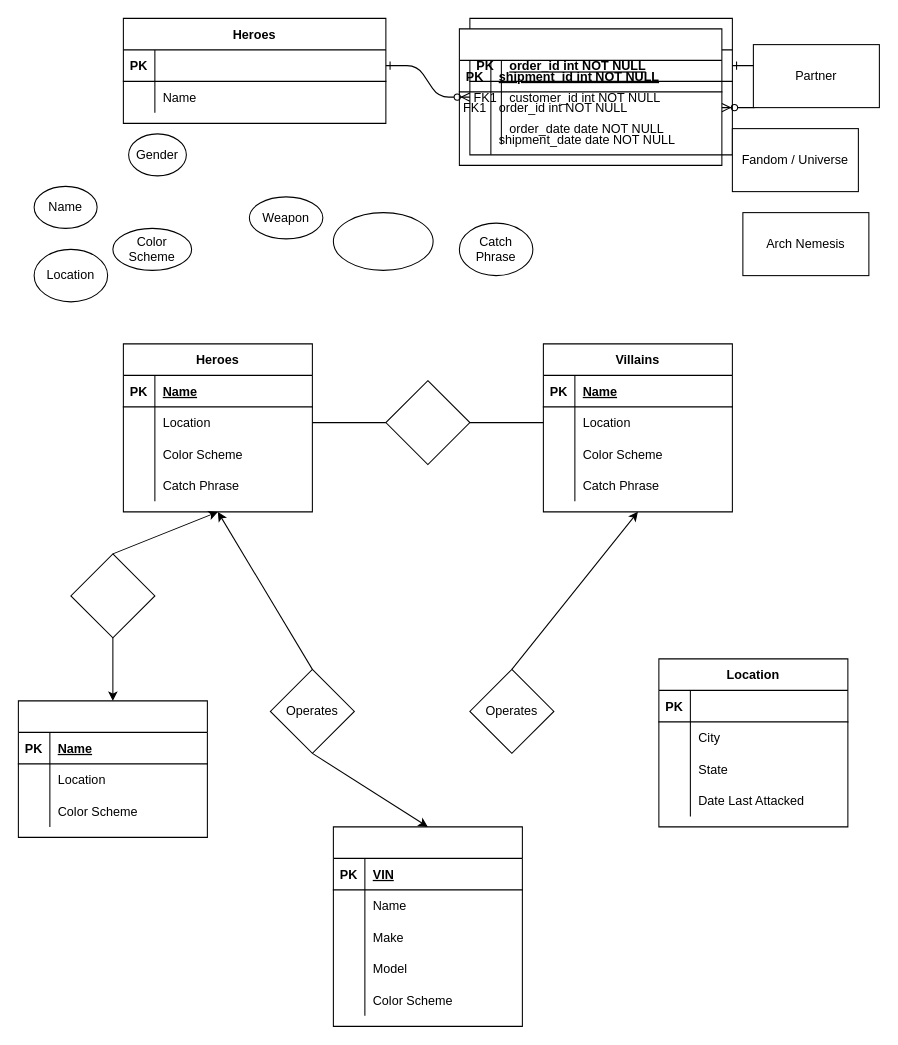
Image size: 898x1045. Some labels were removed from this diagram. The box of each missing label's shape, as (x1, y1, x2, y2) in pixels:
Enemies: (385, 380, 470, 465)
Mode of Transportation: (332, 212, 433, 270)
Partnership: (70, 553, 155, 638)
Shipments: (458, 28, 722, 165)
Sidekick: (17, 700, 207, 837)
Vehicle: (332, 826, 522, 1026)
